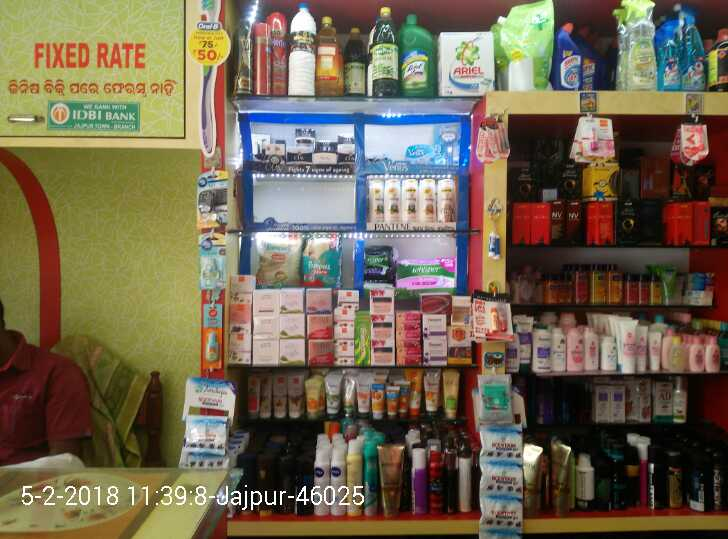venus: (435, 123, 463, 163), (406, 146, 435, 163)
